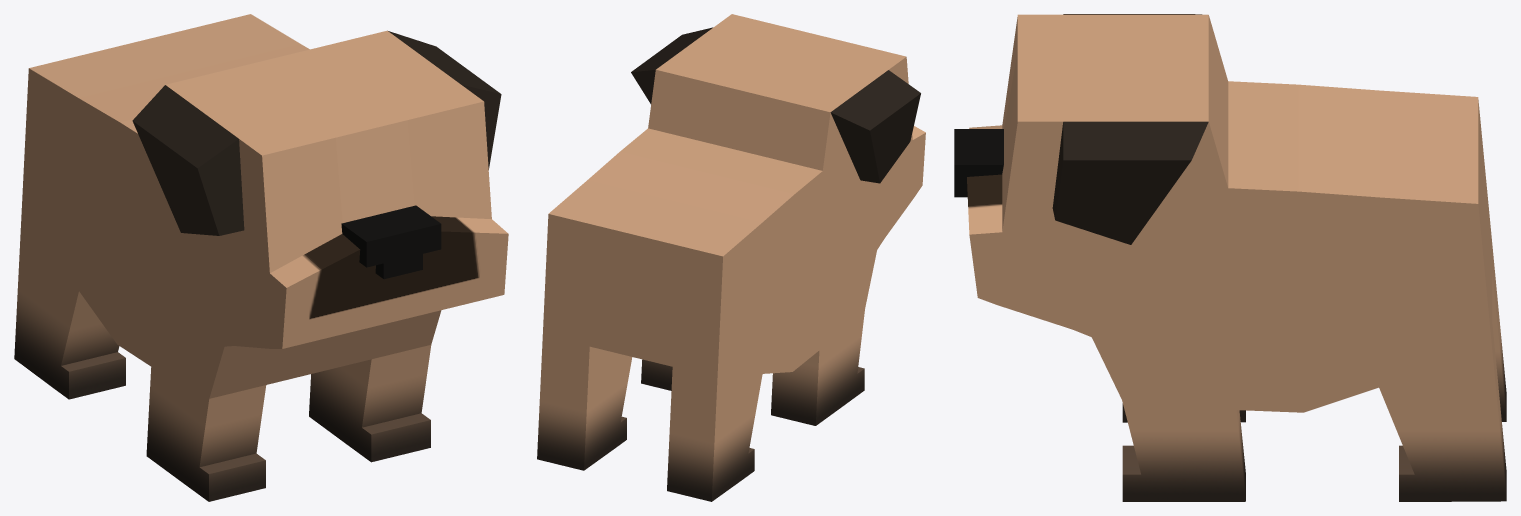
The model's file is bananaPug_Base.fbx.
3 views of the same model, side by side, from view 1: azimuth 30°, elevation 25°; view 2: azimuth 150°, elevation 25°; view 3: azimuth 270°, elevation 25° (orthographic). The views are drawn at different scales.
Visible parts, largest first — view 1: banana_PugBase; view 2: banana_PugBase; view 3: banana_PugBase.
Boxes of the visible parts, x1,y1,x2,y2 form: banana_PugBase: (14, 14, 508, 501); banana_PugBase: (537, 14, 925, 501); banana_PugBase: (954, 14, 1506, 501).
Bounding box in the file's own units: 2.23 × 2.7 × 3.56.
Materials: 1 (1 with a texture image).
